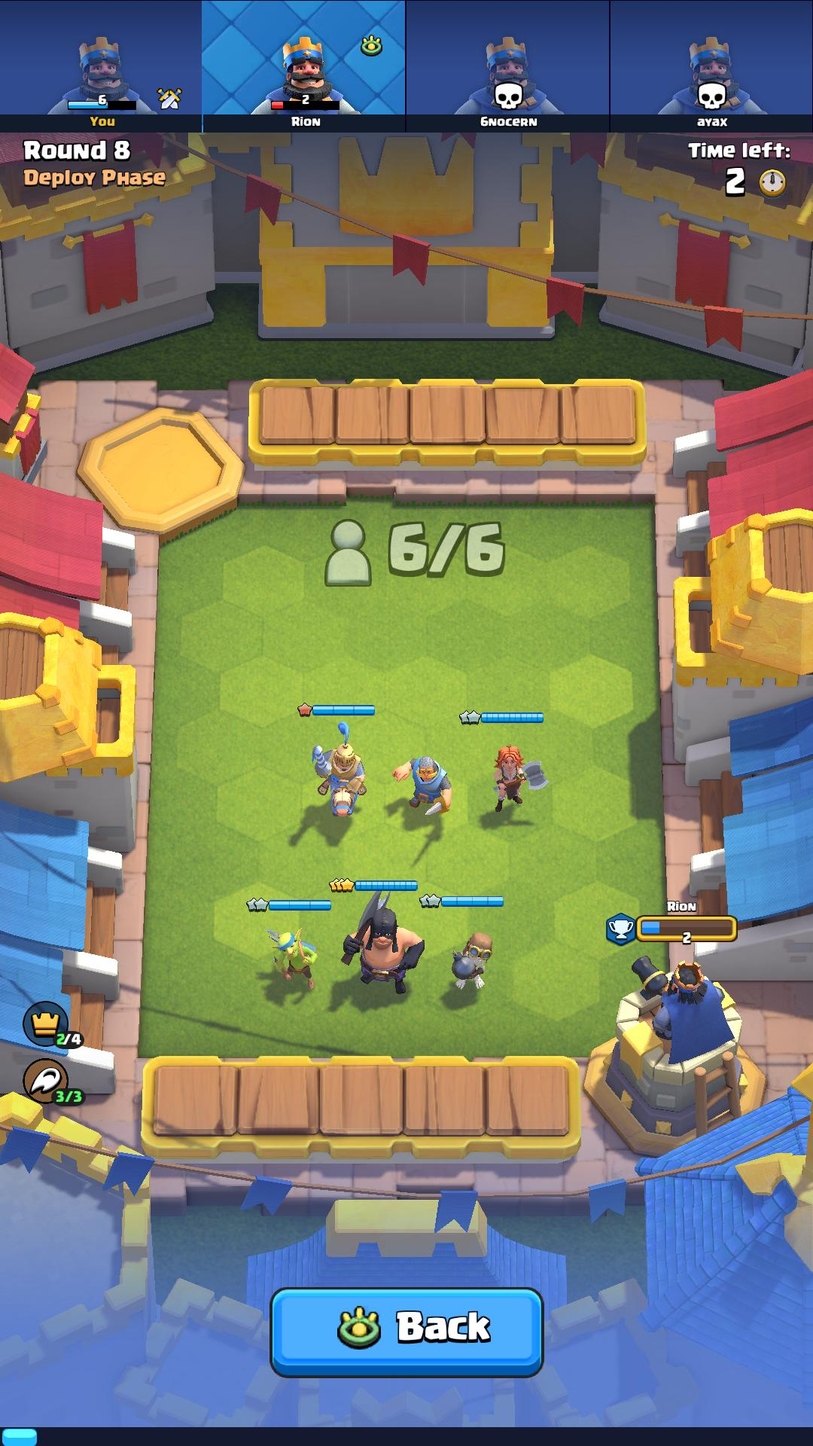bomber: (440, 920, 494, 998)
executioner: (335, 892, 429, 997)
knight: (389, 746, 455, 818)
prince: (301, 717, 375, 823)
spear: (257, 921, 327, 989)
valkyrie: (481, 739, 554, 820)
